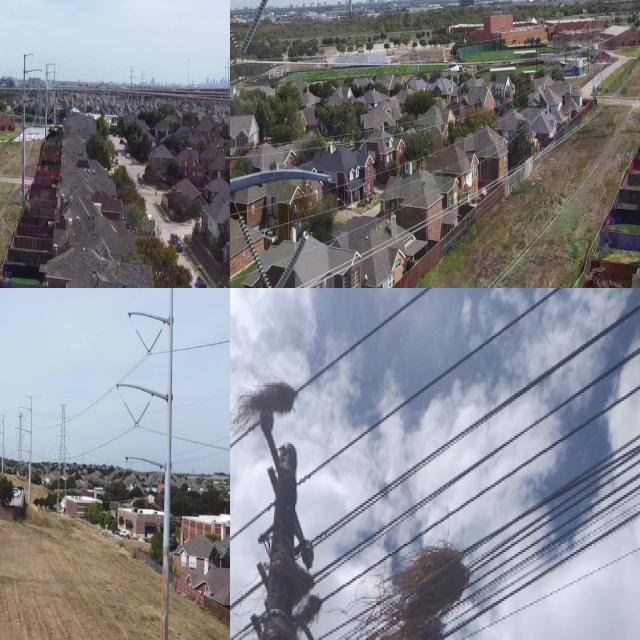杆塔: (54, 401, 73, 524)
植被遮挡: (356, 545, 474, 640), (230, 381, 300, 441)
正常绝缘子: (232, 201, 275, 288), (271, 220, 316, 288), (235, 0, 270, 66), (131, 395, 155, 435), (128, 466, 152, 505), (132, 321, 153, 359), (119, 395, 141, 431), (143, 326, 164, 361), (143, 467, 162, 502), (230, 17, 244, 62)
